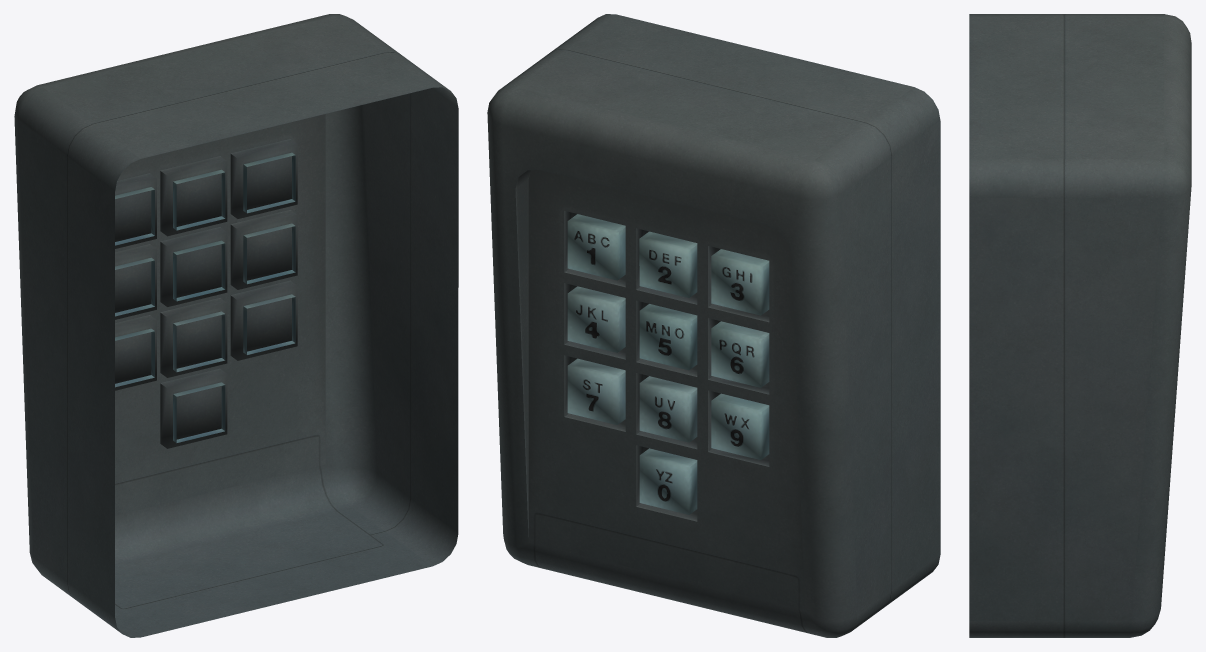
The model's file is aperturevr_arg_-_keypad.glb.
3 views of the same model, side by side, from view 1: azimuth 30°, elevation 25°; view 2: azimuth 150°, elevation 25°; view 3: azimuth 270°, elevation 25° (orthographic). The views are drawn at different scales.
Parts seen in each view (by area): view 1: keypad_001_base_low, keypad_001_keys_low; view 2: keypad_001_base_low, keypad_001_keys_low; view 3: keypad_001_base_low.
Part boxes in pixels (left/top/right/bottom): keypad_001_base_low: left=14, top=14, right=458, bottom=637; keypad_001_keys_low: left=115, top=152, right=295, bottom=442; keypad_001_base_low: left=487, top=14, right=940, bottom=637; keypad_001_keys_low: left=567, top=214, right=769, bottom=514; keypad_001_base_low: left=969, top=14, right=1191, bottom=637.
Size of the model in its own units: 0.0373 by 0.0496 by 0.021.
Materials: 1 (1 with a texture image).
